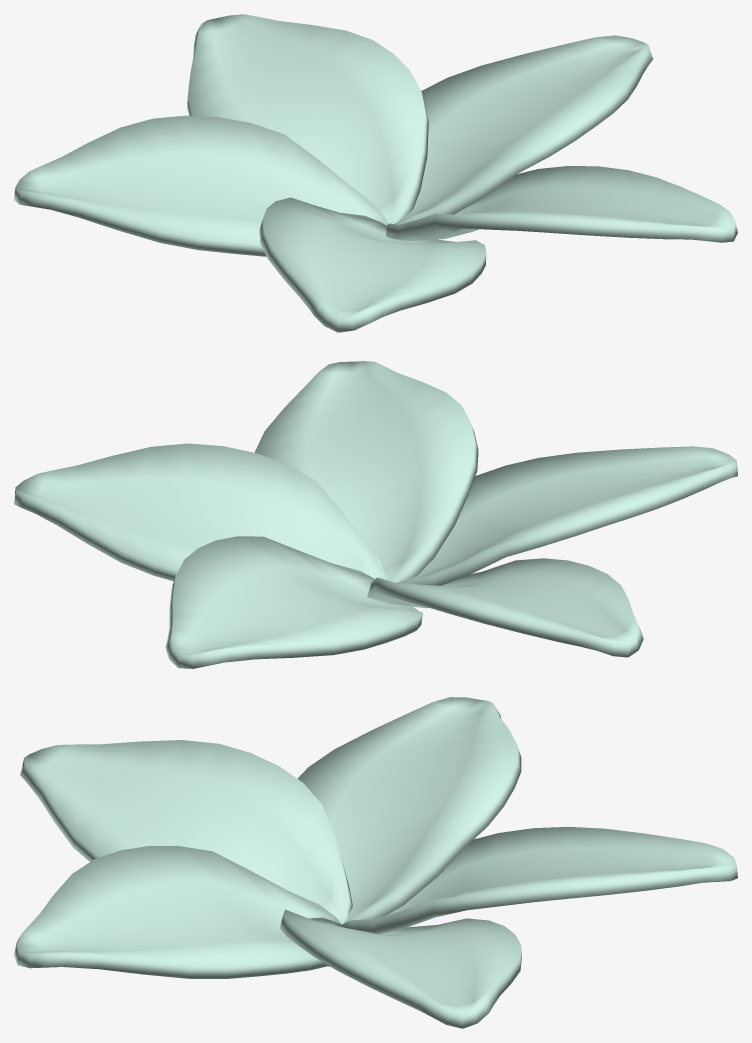
File: blue_flower.fbx
3 renders of one model, top to bottom at view 1: azimuth 30°, elevation 25°; view 2: azimuth 150°, elevation 25°; view 3: azimuth 270°, elevation 25°, orthographic. The views are drawn at different scales.
Visible parts, largest first — view 1: fleur_02; view 2: fleur_02; view 3: fleur_02.
Part boxes in pixels (left/top/right/bottom): fleur_02: left=14, top=14, right=737, bottom=332; fleur_02: left=14, top=361, right=737, bottom=668; fleur_02: left=14, top=697, right=737, bottom=1028.
Bounding box in the file's own units: 10.5 × 1.56 × 10.11.
